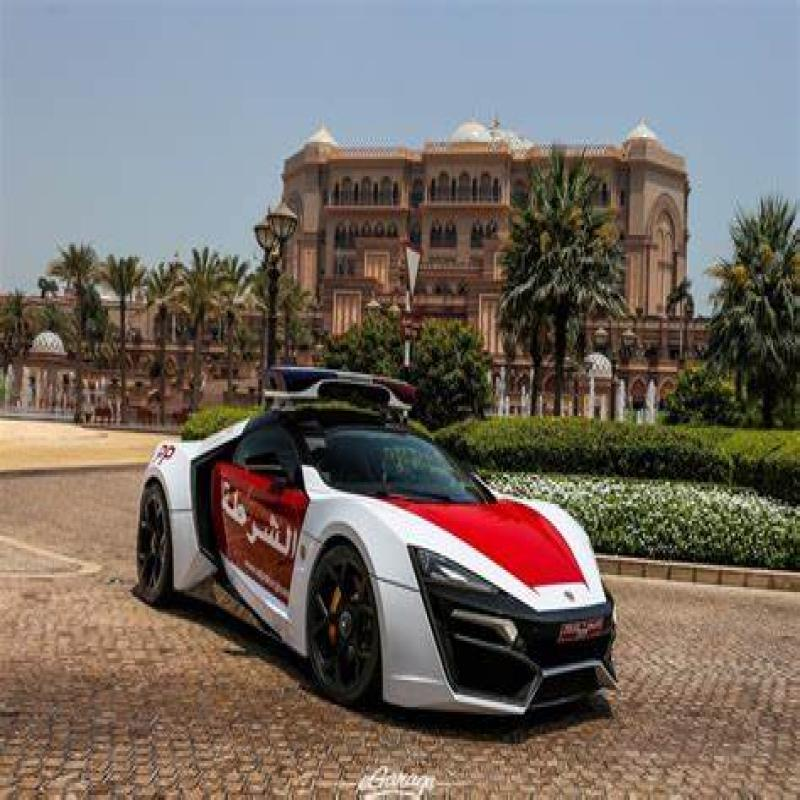car: (129, 397, 627, 753)
